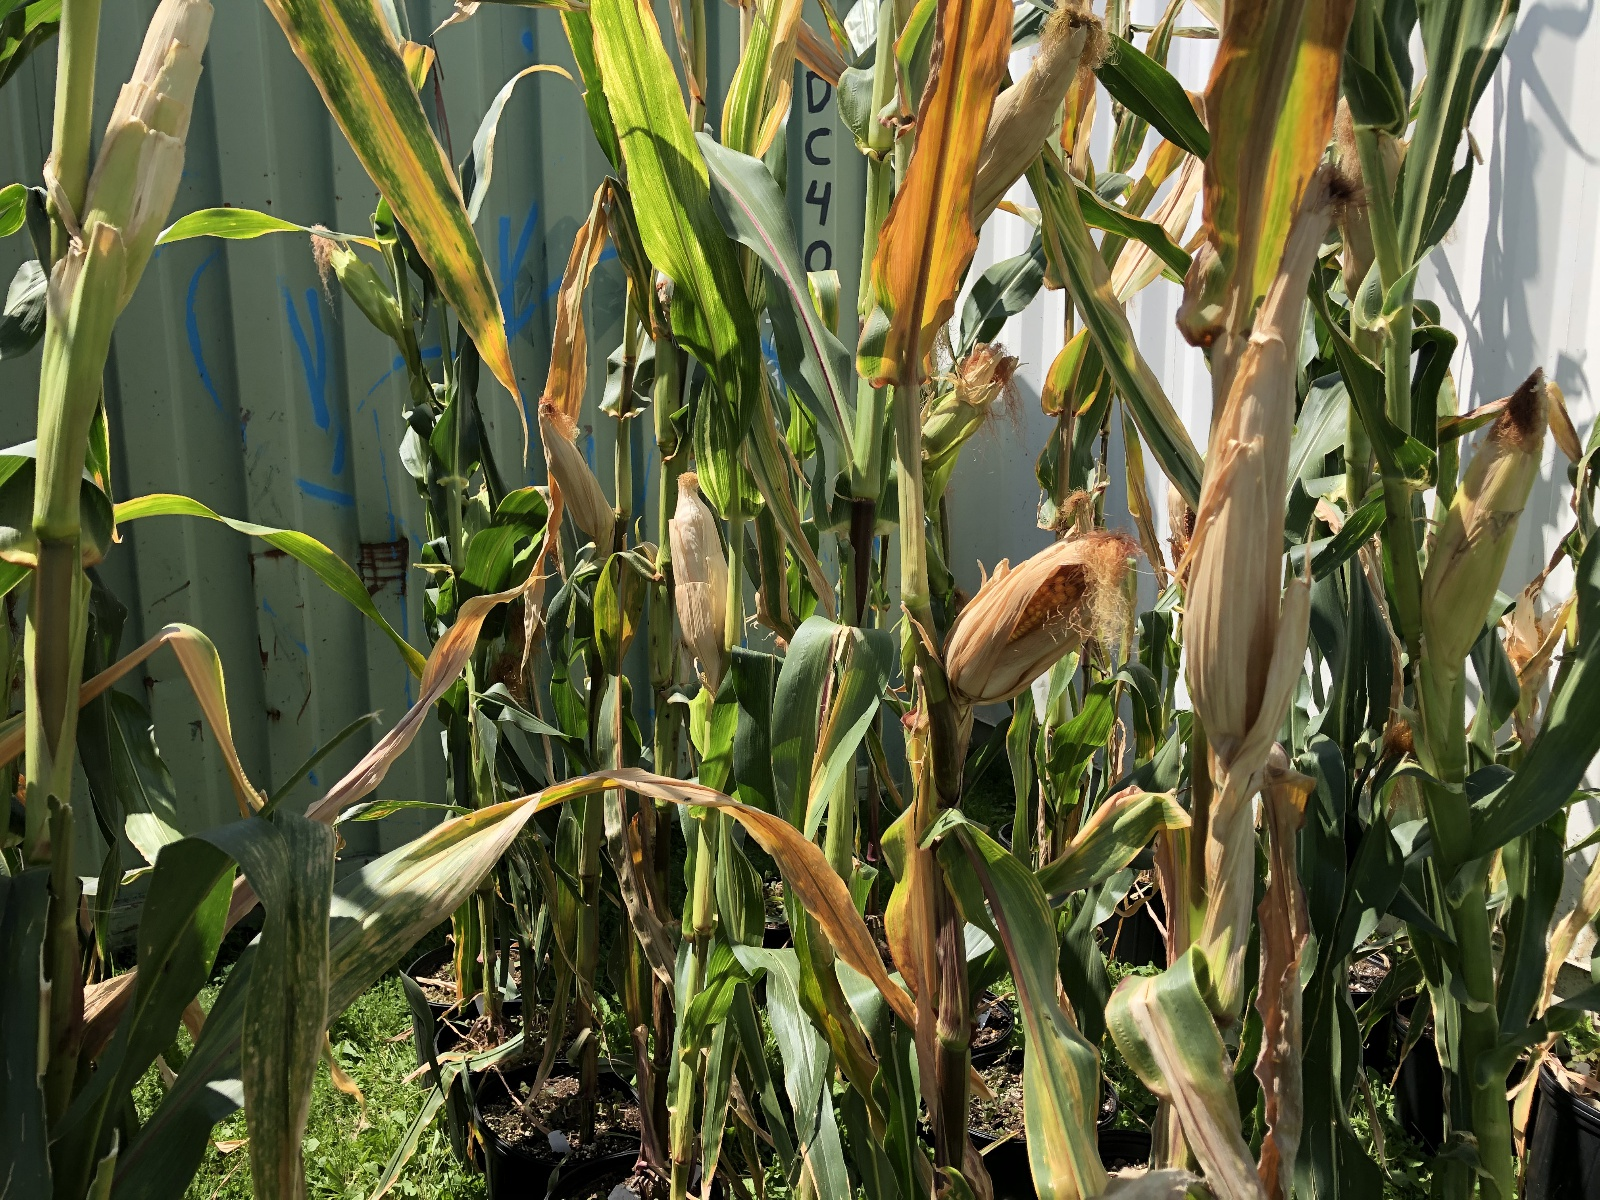ear: (1175, 151, 1357, 753), (1417, 361, 1558, 654), (939, 5, 1119, 224), (941, 528, 1136, 689), (522, 382, 625, 534), (664, 461, 740, 655), (305, 216, 403, 332), (920, 334, 1009, 458)
